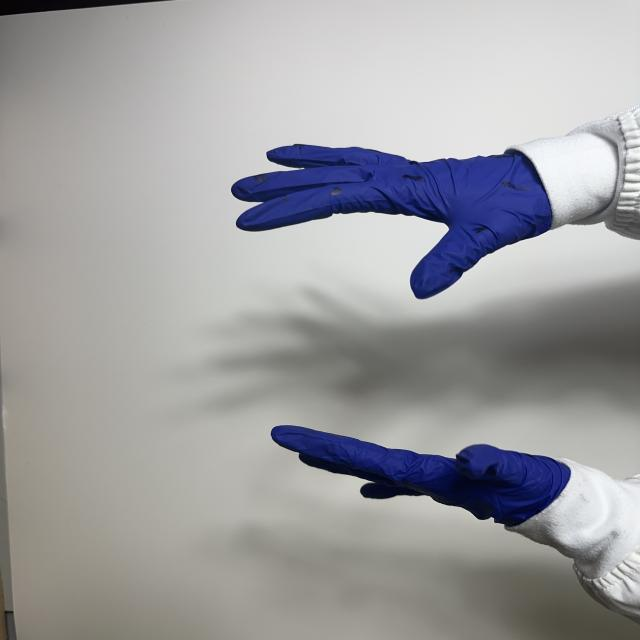gloves_contaminated: (232, 144, 552, 298), (272, 426, 570, 526)
